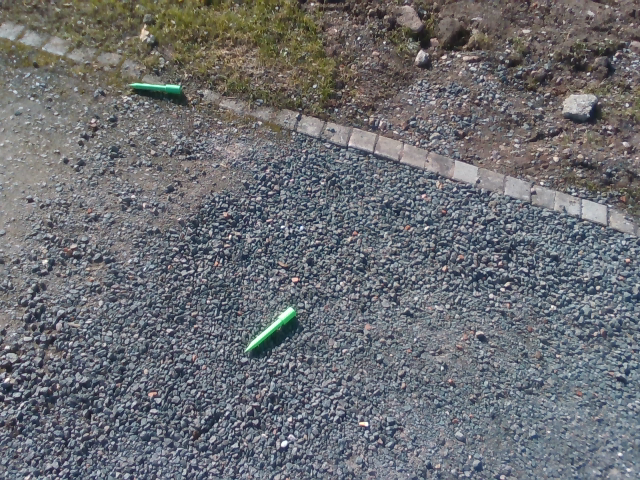Probe: (241, 302, 299, 354)
